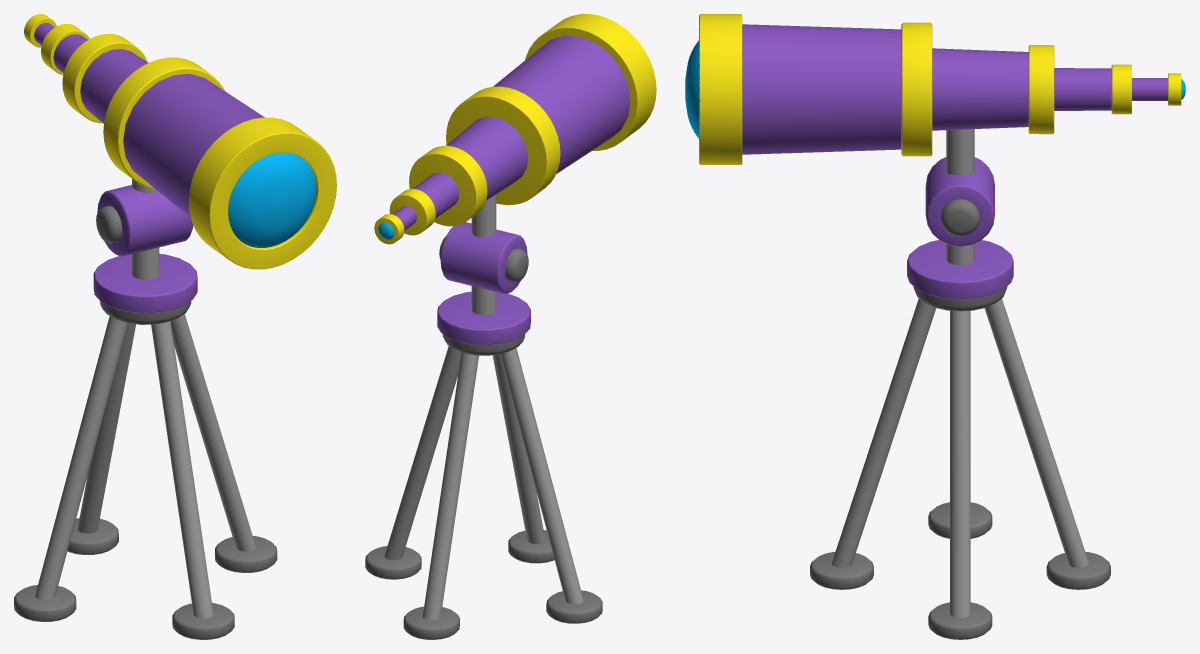
Rendered from Public_17_Telescope_1.glb.
The picture shows the model from 3 angles, left to right: view 1: azimuth 30°, elevation 25°; view 2: azimuth 150°, elevation 25°; view 3: azimuth 270°, elevation 25°; orthographic projection. The views are drawn at different scales.
Visible parts, largest first — view 1: Public_17_Telescope_1; view 2: Public_17_Telescope_1; view 3: Public_17_Telescope_1.
Boxes of the visible parts, x1=… form: Public_17_Telescope_1: x1=14, y1=14, x2=336, y2=639; Public_17_Telescope_1: x1=365, y1=14, x2=656, y2=639; Public_17_Telescope_1: x1=685, y1=14, x2=1185, y2=639.
Size of the model in its own units: 1.56 by 3.19 by 2.6.
1 material, 1 textured.
